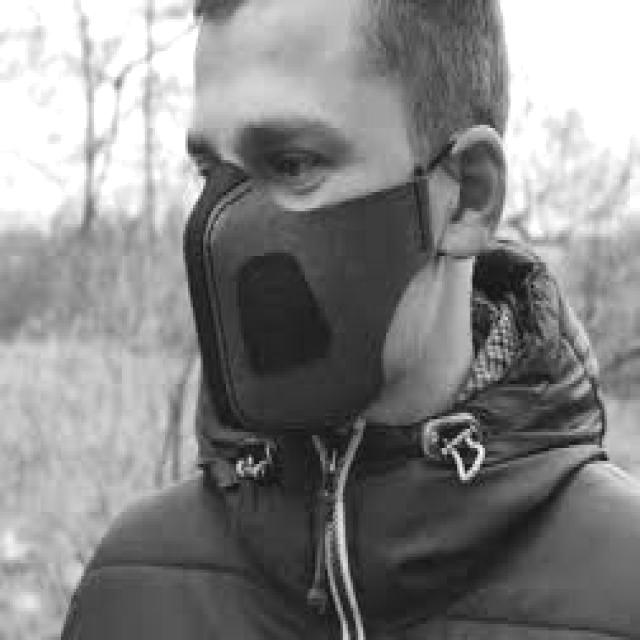fake: (150, 159, 442, 452)
real: (185, 2, 442, 435)
